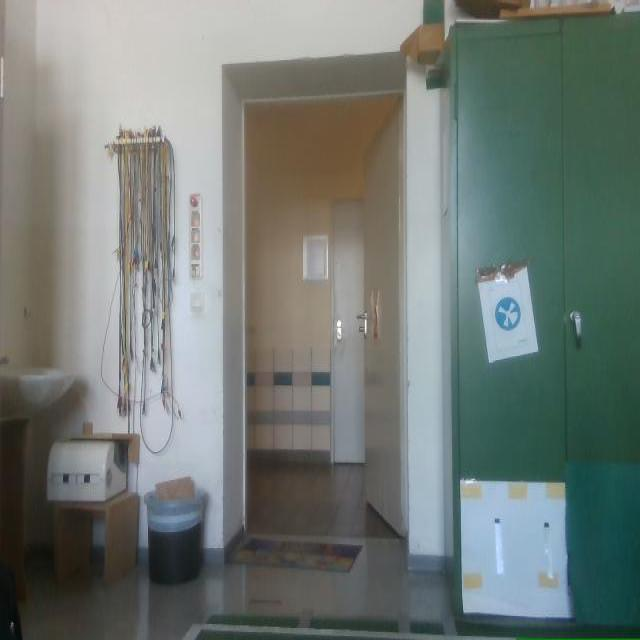objects: (441, 14, 639, 637), (565, 460, 639, 637), (47, 439, 126, 502), (0, 564, 21, 639)
